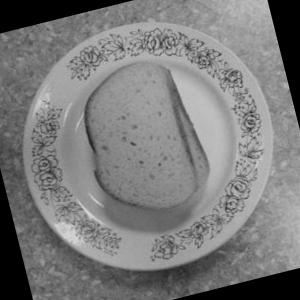bread: (57, 30, 226, 232)
